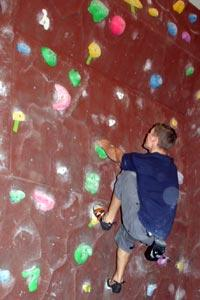person: (94, 123, 179, 296)
